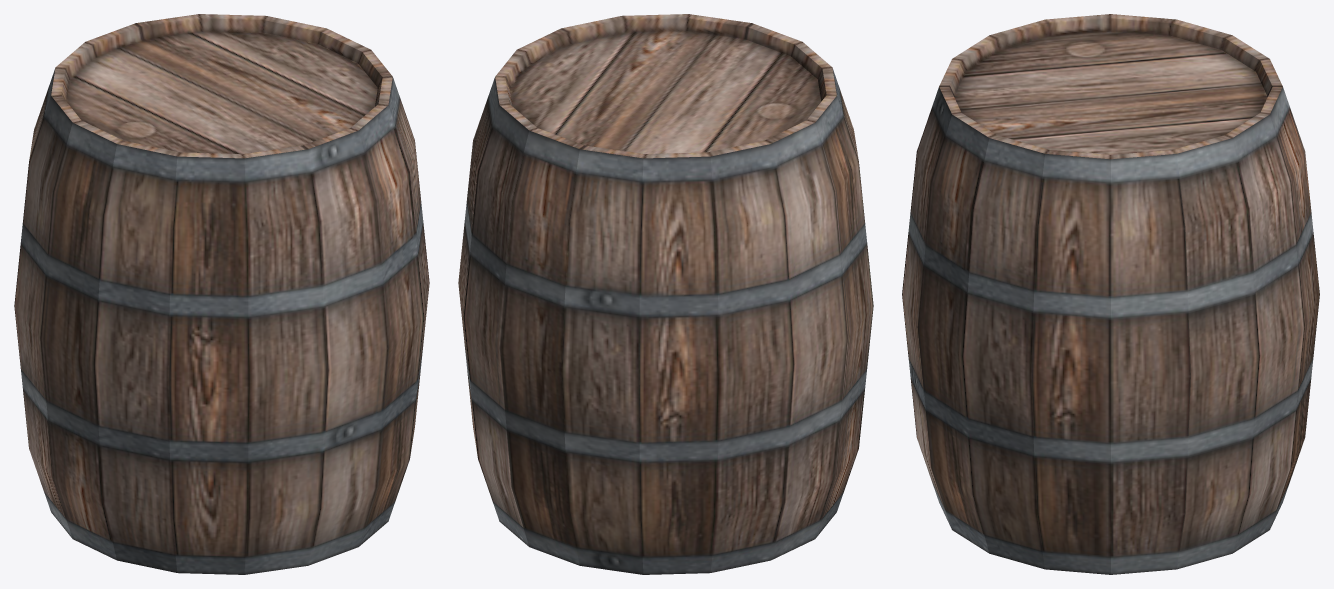
The model's file is Barrel.dae.
3 views of the same model, side by side, from view 1: azimuth 30°, elevation 25°; view 2: azimuth 150°, elevation 25°; view 3: azimuth 270°, elevation 25° (orthographic).
Parts seen in each view (by area): view 1: Barrel; view 2: Barrel; view 3: Barrel.
Part boxes in pixels (box(x1,y1,x2,y2)): Barrel: box(14, 14, 429, 574); Barrel: box(458, 14, 873, 574); Barrel: box(902, 14, 1319, 574).
Bounding box in the file's own units: 28.7 × 28.7 × 31.5.
Materials: 1 (1 with a texture image).
